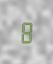eight: (19, 20, 32, 43)
